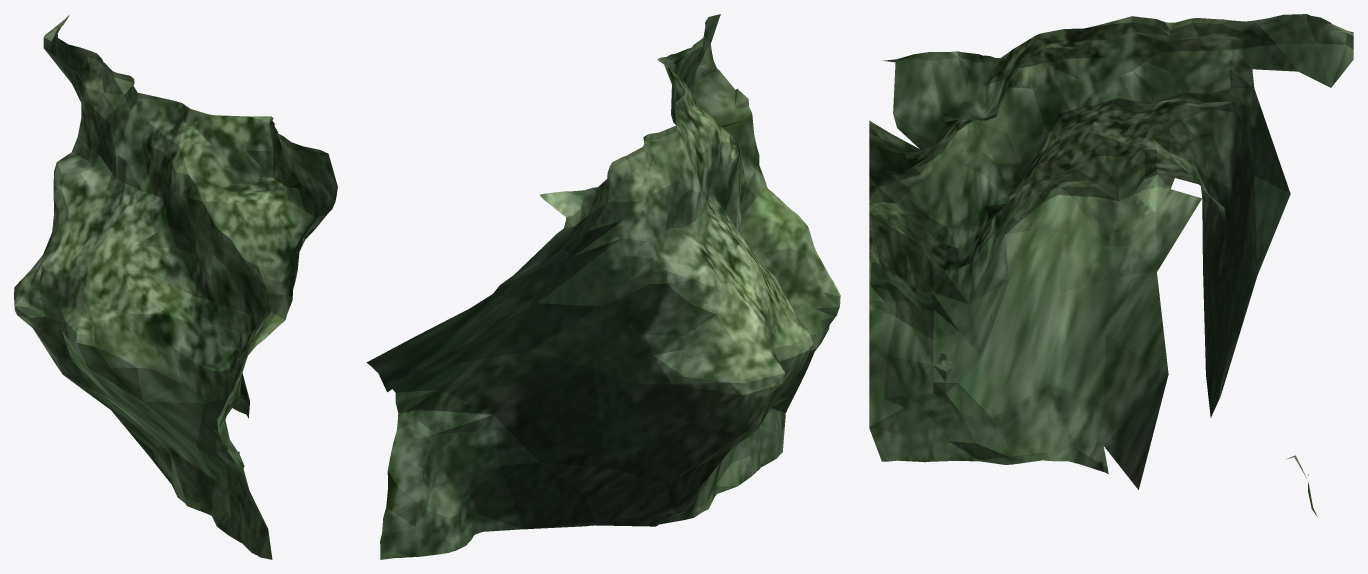
3 renders of one model, left to right at view 1: azimuth 30°, elevation 25°; view 2: azimuth 150°, elevation 25°; view 3: azimuth 270°, elevation 25°, orthographic. The views are drawn at different scales.
Size of the model in its own units: 2.41 by 2.95 by 2.95.
4 materials, 4 textured.
